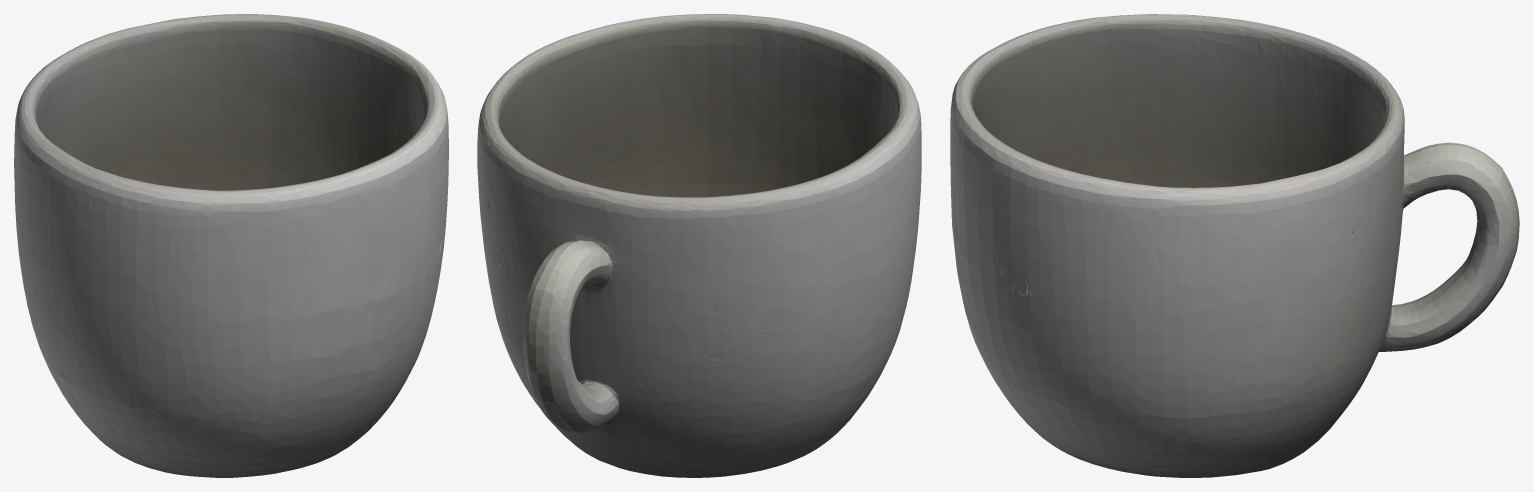
The model's file is item_empty_cup_1.glb.
The picture shows the model from 3 angles, left to right: view 1: azimuth 30°, elevation 25°; view 2: azimuth 150°, elevation 25°; view 3: azimuth 270°, elevation 25°; orthographic projection. The views are drawn at different scales.
Visible parts, largest first — view 1: geometry_0; view 2: geometry_0; view 3: geometry_0.
Boxes of the visible parts, left/top/right/bottom form: geometry_0: left=14, top=14, right=448, bottom=477; geometry_0: left=477, top=14, right=921, bottom=477; geometry_0: left=950, top=14, right=1519, bottom=477.
Bounding box in the file's own units: 0.7798 × 0.6462 × 0.9991.
1 material, 1 textured.
